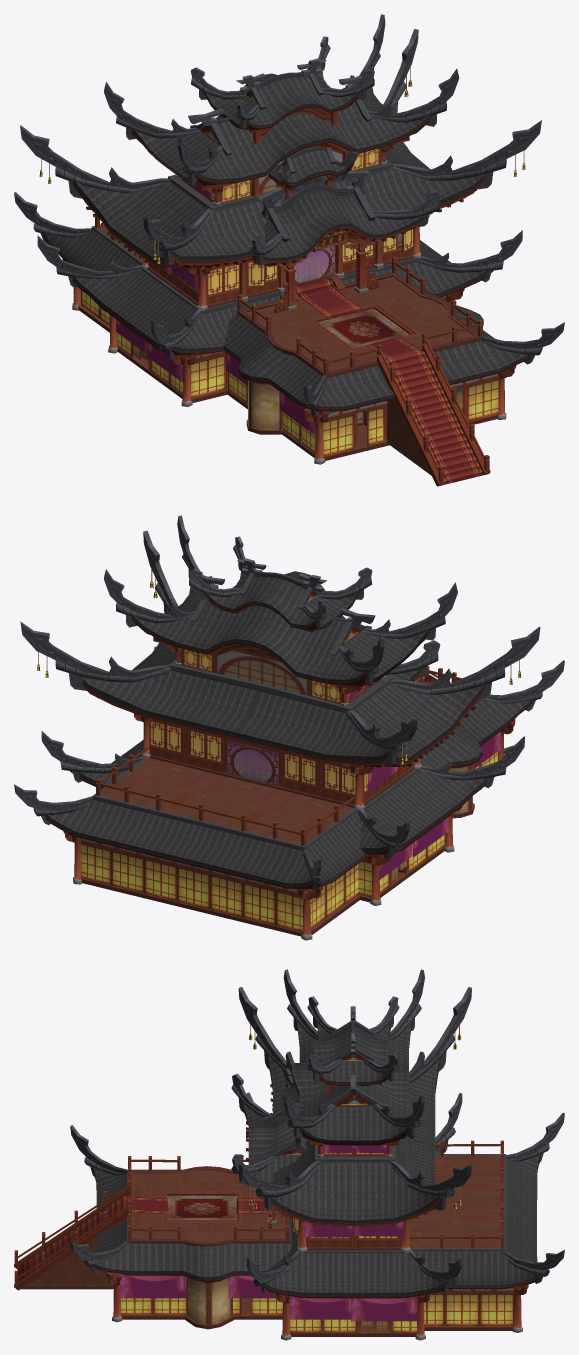
File: ZYbui_CLF_zhujian01.FBX
3 views of the same model, one above another, from view 1: azimuth 30°, elevation 25°; view 2: azimuth 150°, elevation 25°; view 3: azimuth 270°, elevation 25° (orthographic). The views are drawn at different scales.
Visible parts, largest first — view 1: ZYbui_CLF_zhujian01; view 2: ZYbui_CLF_zhujian01; view 3: ZYbui_CLF_zhujian01.
Boxes of the visible parts, <box> form: ZYbui_CLF_zhujian01: <box>14,14,564,486</box>; ZYbui_CLF_zhujian01: <box>14,515,564,940</box>; ZYbui_CLF_zhujian01: <box>14,969,564,1340</box>.
Bounding box in the file's own units: 2504 × 1671 × 3266.
